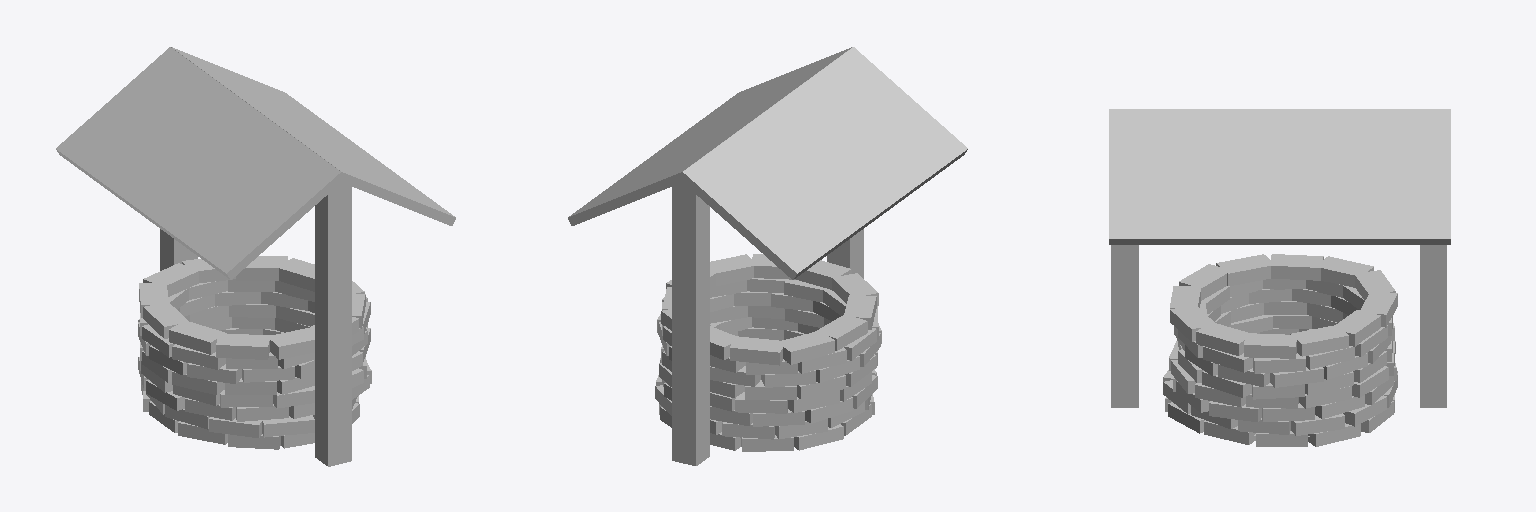
Rendered from Brunnen.obj.
3 views of the same model, side by side, from view 1: azimuth 30°, elevation 25°; view 2: azimuth 150°, elevation 25°; view 3: azimuth 270°, elevation 25° (orthographic).
Parts seen in each view (by area): view 1: Plane, Cube.001_Cube.097, Plane.001, Stein.091_Cube.091, Stein.090_Cube.090, Stein.092_Cube.092, Stein.087_Cube.087, Stein.089_Cube.089, Stein.085_Cube.085, Stein.084_Cube.084, Stein.015_Cube.015, Cube_Cube.096 (+21 smaller); view 2: Plane, Cube_Cube.096, Plane.001, Stein.088_Cube.088, Stein.087_Cube.087, Stein.094_Cube.094, Stein.089_Cube.089, Cube.001_Cube.097, Stein.092_Cube.092, Stein.091_Cube.091, Stein.045_Cube.045, Stein.090_Cube.090 (+19 smaller); view 3: Plane.001, Cube.001_Cube.097, Cube_Cube.096, Stein.095_Cube.095, Stein.089_Cube.089, Stein.084_Cube.084, Stein.094_Cube.094, Stein.090_Cube.090, Stein.088_Cube.088, Stein.085_Cube.085, Stein.091_Cube.091, Stein.093_Cube.093 (+28 smaller).
Part boxes in pixels (x1,y1,x2,y2): Plane: (56, 47, 345, 279); Cube.001_Cube.097: (315, 182, 351, 466); Plane.001: (171, 47, 455, 225); Stein.091_Cube.091: (216, 333, 270, 359); Stein.090_Cube.090: (169, 321, 224, 354); Stein.092_Cube.092: (267, 328, 314, 359); Stein.087_Cube.087: (143, 263, 198, 296); Stein.089_Cube.089: (143, 302, 187, 338); Stein.085_Cube.085: (236, 256, 287, 280); Stein.084_Cube.084: (277, 258, 314, 291); Stein.015_Cube.015: (262, 415, 314, 437); Cube_Cube.096: (160, 229, 197, 270); Plane: (679, 47, 967, 279); Cube_Cube.096: (672, 182, 709, 465); Plane.001: (568, 47, 852, 225); Stein.088_Cube.088: (777, 331, 834, 364); Stein.087_Cube.087: (730, 336, 782, 365); Stein.094_Cube.094: (710, 254, 755, 285); Stein.089_Cube.089: (815, 315, 867, 350); Cube.001_Cube.097: (827, 229, 863, 278); Stein.092_Cube.092: (796, 260, 851, 289); Stein.091_Cube.091: (832, 273, 878, 305); Stein.045_Cube.045: (735, 392, 787, 413); Stein.090_Cube.090: (844, 295, 876, 329); Plane.001: (1109, 109, 1450, 244); Cube.001_Cube.097: (1111, 245, 1138, 407); Cube_Cube.096: (1420, 245, 1446, 407); Stein.095_Cube.095: (1244, 333, 1297, 358); Stein.089_Cube.089: (1269, 254, 1323, 280); Stein.084_Cube.084: (1290, 325, 1348, 356); Stein.094_Cube.094: (1196, 322, 1247, 355); Stein.090_Cube.090: (1216, 254, 1270, 285); Stein.088_Cube.088: (1315, 256, 1373, 287); Stein.085_Cube.085: (1331, 310, 1380, 346); Stein.091_Cube.091: (1179, 264, 1230, 300); Stein.093_Cube.093: (1170, 307, 1216, 341).
Bounding box in the file's own units: 5.34 × 6.51 × 6.88.